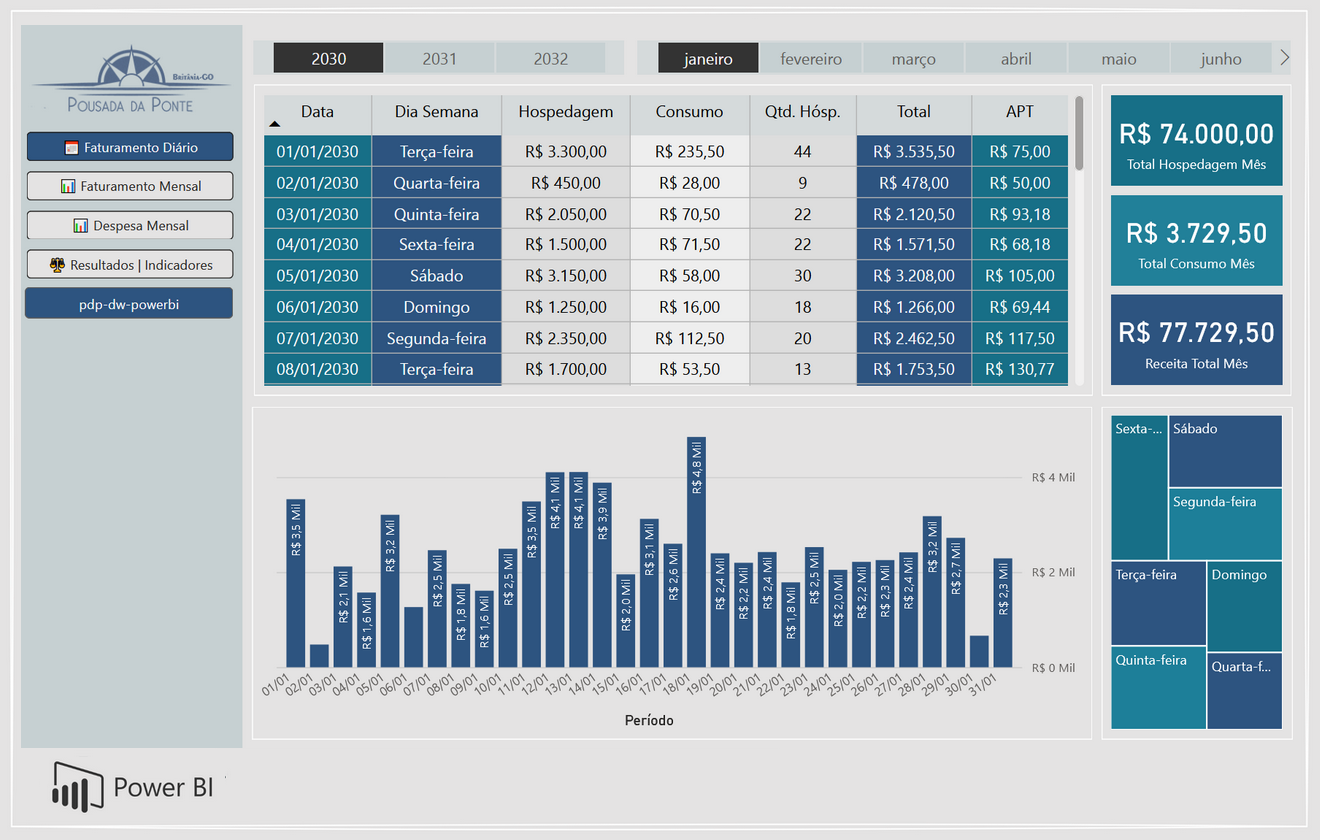

Layout of this report page (visuals, bound fields, positions):
{"tool":"powerbi","page":{"name":"📅 Faturamento Diário","canvas":[1280,720],"ordinal":0},"visuals":[{"type":"shape","box":[880.5,59.1,190.6,310.1],"z":0},{"type":"shape","box":[1079.6,59.1,189.4,310.1],"z":1000},{"type":"shape","box":[75.8,59.1,795,310.1],"z":2000},{"type":"shape","box":[431.7,377.6,837.3,331.8],"z":3000},{"type":"slicer","fields":{"Values":["dw_core dim_data.Data.Variation.Hierarquia de datas.Mês"]},"box":[463.1,14.5,805.9,33.8],"z":4000},{"type":"card","fields":{"Values":["Sum(dw_marts hospedagem_resumo.Total)"]},"box":[1089.5,269,171.3,90.5],"z":5000},{"type":"slicer","fields":{"Values":["dw_core dim_data.Data.Variation.Hierarquia de datas.Ano"]},"box":[75.8,14.5,369.2,33.8],"z":6000},{"type":"tableEx","fields":{"Values":["dw_marts hospedagem_resumo.data","dw_marts hospedagem_resumo.dia_semana","Sum(dw_marts hospedagem_resumo.hospedagem)","Sum(dw_marts hospedagem_resumo.consumo)","Sum(dw_marts hospedagem_resumo.quantidade_hospedes)","Sum(dw_marts hospedagem_resumo.total)","Sum(dw_marts hospedagem_resumo.apt)"]},"box":[85.5,67.6,776.9,292],"z":7000},{"type":"shape","box":[0,0,62.7,720.2],"z":8000},{"type":"card","fields":{"Values":["Sum(dw_marts hospedagem_resumo.Consumo)"]},"box":[1089.5,168.9,171.3,90.5],"z":9000},{"type":"card","fields":{"Values":["Sum(dw_marts hospedagem_resumo.Hospedagem)"]},"box":[1089.5,67.6,171.3,90.5],"z":10000},{"type":"columnChart","fields":{"Y":["Sum(dw_marts hospedagem_resumo.Total)"],"Category":["dw_marts hospedagem_resumo.Data"]},"box":[439,374,824,331.8],"z":11000},{"type":"treemap","fields":{"Group":["dw_marts hospedagem_resumo.Dia Semana"],"Values":["Sum(dw_marts hospedagem_resumo.Total)"]},"box":[890.2,67.6,171.3,292],"z":12000},{"type":"shape","box":[75.7,377.8,344.4,212],"z":13000},{"type":"gauge","fields":{"Y":["Avg(dw_marts hospedagem_resumo.Total)"],"MinValue":["Min(dw_marts hospedagem_resumo.Total)1"],"MaxValue":["Max(dw_marts hospedagem_resumo.Total)2"]},"box":[78.2,381.2,338,188.2],"z":14000},{"type":"textbox","box":[83.1,555,101.3,31.4],"z":15000},{"type":"textbox","box":[301.4,556.2,101.3,31.4],"z":16000},{"type":"textbox","box":[195.9,520.8,101.7,30.8],"z":17000},{"type":"shape","box":[75.7,598.9,344.4,111.1],"z":18000,"group":"g1"},{"type":"image","box":[98.8,593.6,300.4,120.6],"z":19000,"group":"g1"},{"type":"group","id":"g1","title":"Grupo 1","box":[75.7,593.6,344.4,120.6],"z":19001}]}

Visuals, with their boxes on the page's 1280x720 design canvas (x1, y1, x2, y2). These are canvas units, not pixel positions in the 1320x840 screenshot, which may show the page scaled, cropped or inside an application window:
shape: x1=880 y1=59 x2=1071 y2=369
shape: x1=1080 y1=59 x2=1269 y2=369
shape: x1=76 y1=59 x2=871 y2=369
shape: x1=432 y1=378 x2=1269 y2=709
slicer - dw_core dim_data.Data.Variation.Hierarquia de datas.Mês: x1=463 y1=14 x2=1269 y2=48
card - Sum(dw_marts hospedagem_resumo.Total): x1=1090 y1=269 x2=1261 y2=360
slicer - dw_core dim_data.Data.Variation.Hierarquia de datas.Ano: x1=76 y1=14 x2=445 y2=48
tableEx - dw_marts hospedagem_resumo.data x dw_marts hospedagem_resumo.dia_semana: x1=86 y1=68 x2=862 y2=360
shape: x1=0 y1=0 x2=63 y2=720
card - Sum(dw_marts hospedagem_resumo.Consumo): x1=1090 y1=169 x2=1261 y2=259
card - Sum(dw_marts hospedagem_resumo.Hospedagem): x1=1090 y1=68 x2=1261 y2=158
columnChart - Sum(dw_marts hospedagem_resumo.Total) x dw_marts hospedagem_resumo.Data: x1=439 y1=374 x2=1263 y2=706
treemap - dw_marts hospedagem_resumo.Dia Semana x Sum(dw_marts hospedagem_resumo.Total): x1=890 y1=68 x2=1062 y2=360
shape: x1=76 y1=378 x2=420 y2=590
gauge - Avg(dw_marts hospedagem_resumo.Total) x Min(dw_marts hospedagem_resumo.Total)1: x1=78 y1=381 x2=416 y2=569
textbox: x1=83 y1=555 x2=184 y2=586
textbox: x1=301 y1=556 x2=403 y2=588
textbox: x1=196 y1=521 x2=298 y2=552
shape: x1=76 y1=599 x2=420 y2=710
image: x1=99 y1=594 x2=399 y2=714
"Grupo 1" group: x1=76 y1=594 x2=420 y2=714
